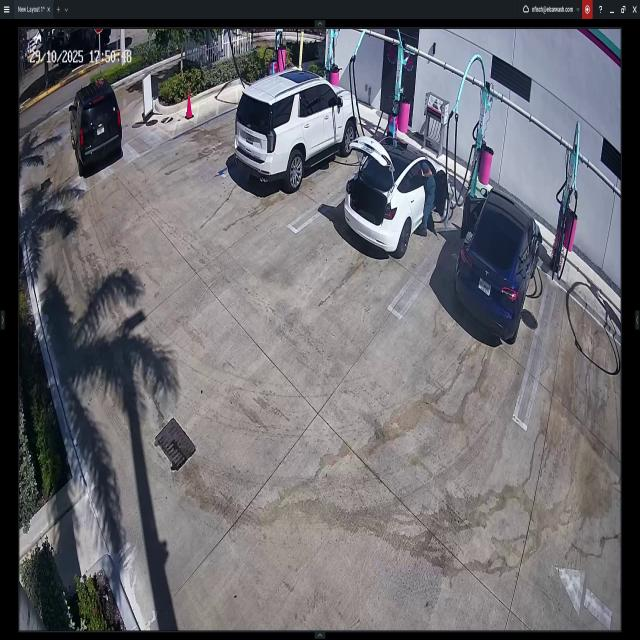Car: (237, 76, 358, 192), (458, 180, 541, 341), (348, 133, 450, 262), (70, 86, 121, 172)
